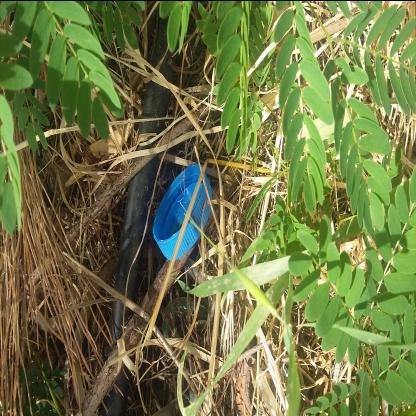plastik: (162, 204, 262, 266)
